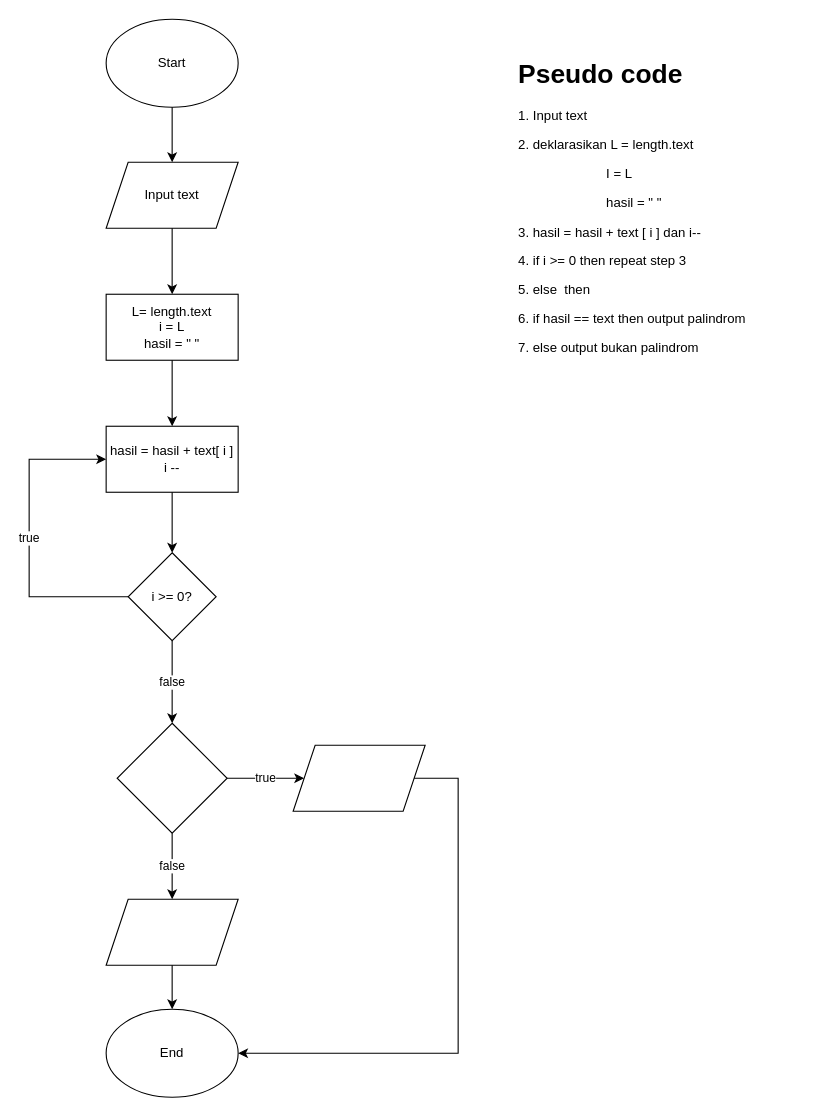
Some shapes in this 829 by 1117 pixel diagram are drawn without their labels. Here are the shapes that lost their labels. From the top down, the box of each, then its label:
(116, 722, 227, 833): hasil == text?
(292, 744, 425, 811): palindrom
(105, 898, 238, 965): bukan palindrome
